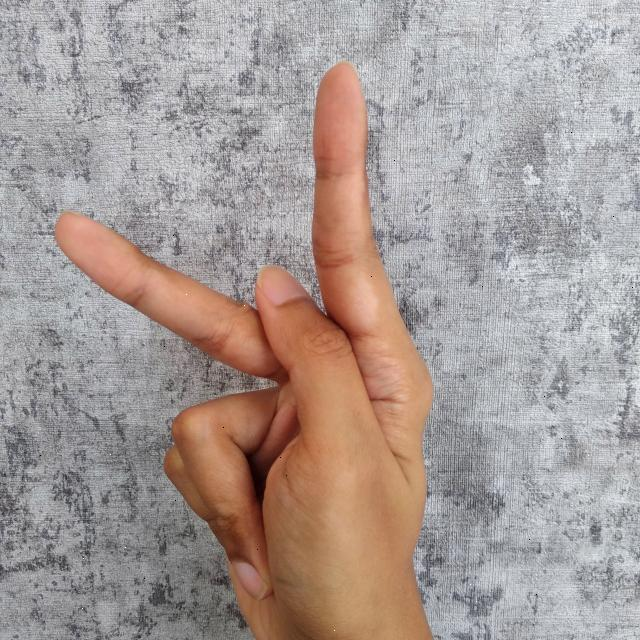K: (50, 56, 440, 640)
